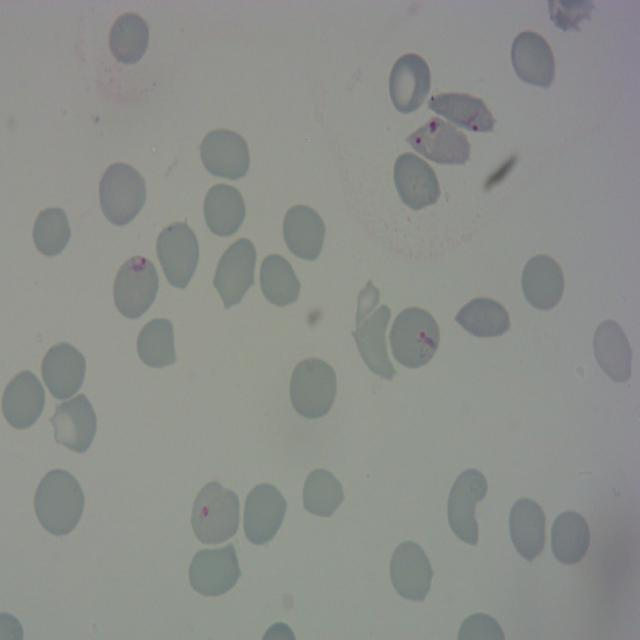leukocyte: (287, 354, 340, 422), (32, 470, 85, 537), (96, 160, 148, 228), (442, 469, 488, 544), (212, 237, 258, 309), (155, 219, 201, 291), (391, 149, 442, 213), (198, 125, 252, 184), (386, 50, 432, 118), (0, 368, 47, 433), (388, 538, 434, 604), (590, 317, 634, 386), (509, 28, 557, 90), (39, 340, 87, 402), (188, 542, 241, 598), (506, 494, 549, 563), (357, 304, 395, 382), (519, 251, 566, 314), (50, 392, 99, 452), (243, 483, 288, 547), (547, 507, 592, 568), (256, 250, 302, 309), (106, 8, 150, 68), (29, 202, 72, 260), (202, 180, 248, 233), (282, 202, 324, 260), (300, 466, 345, 520), (456, 296, 510, 341), (135, 315, 178, 371)
red blood cell: (427, 89, 496, 135), (407, 116, 470, 166), (114, 251, 158, 320), (391, 309, 438, 370)
